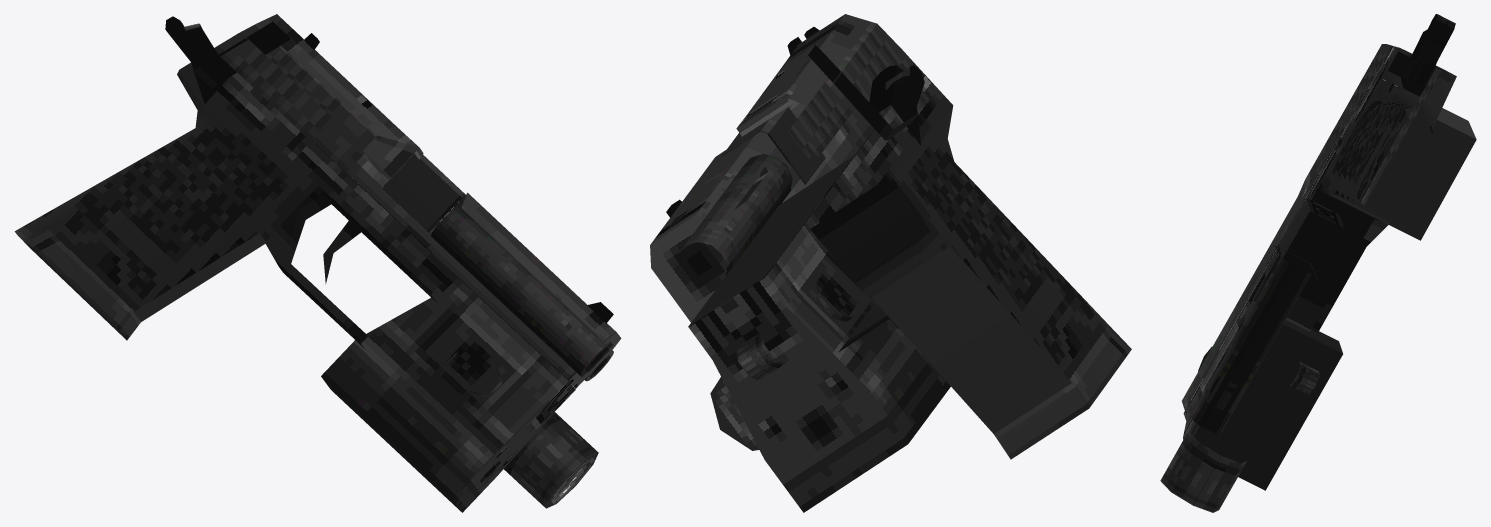
The model's file is ps2_save-icons_metalgearsolid2sonsofliberty-snaketales.glb.
3 renders of one model, left to right at view 1: azimuth 30°, elevation 25°; view 2: azimuth 150°, elevation 25°; view 3: azimuth 270°, elevation 25°, orthographic. The views are drawn at different scales.
Parts seen in each view (by area): view 1: mgs2.ico; view 2: mgs2.ico; view 3: mgs2.ico.
Boxes of the visible parts, left/top/right/bottom form: mgs2.ico: left=14, top=14, right=621, bottom=512; mgs2.ico: left=650, top=14, right=1131, bottom=512; mgs2.ico: left=1160, top=14, right=1476, bottom=512.
Bounding box in the file's own units: 3.43 × 3.13 × 2.25.
1 material, 1 textured.
